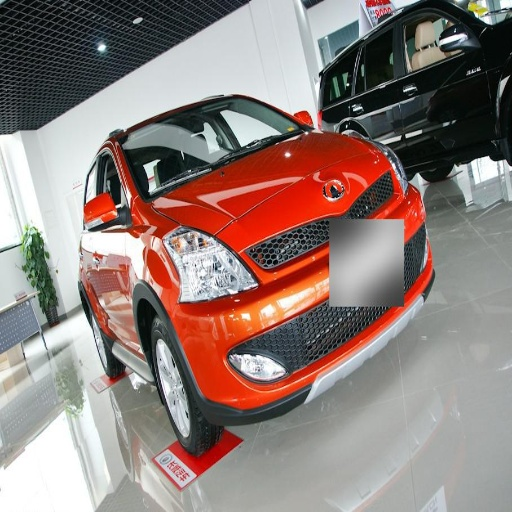back_right_light: (378, 166, 423, 234)
front_bumper: (174, 279, 349, 410)
front_right_door: (90, 149, 132, 338)
front_right_light: (163, 226, 257, 297)
tailgate: (320, 151, 371, 202)
trunk: (262, 156, 386, 328)
